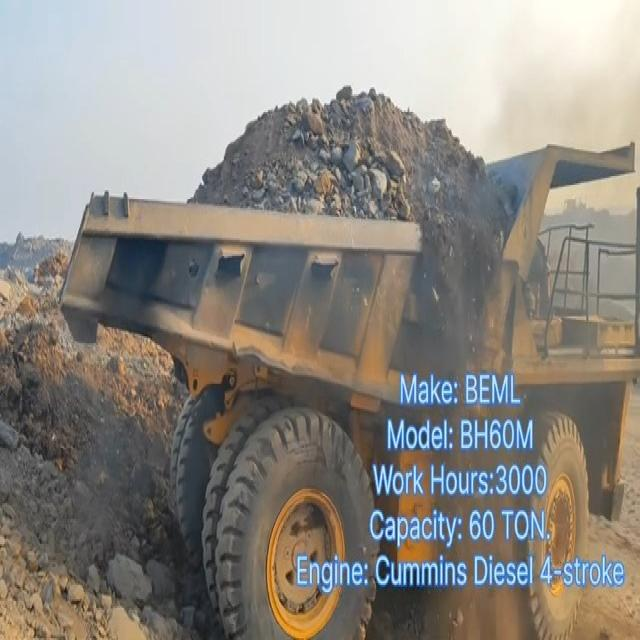dump_truck: (72, 182, 631, 640)
